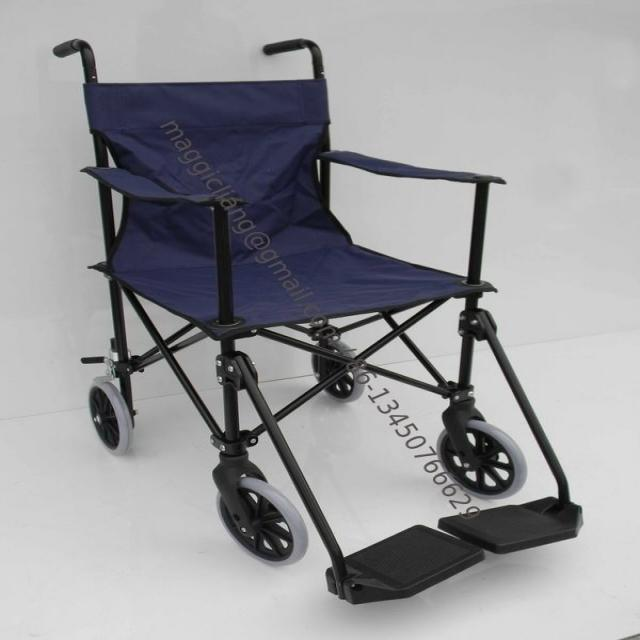wheelchair: (36, 22, 587, 611)
